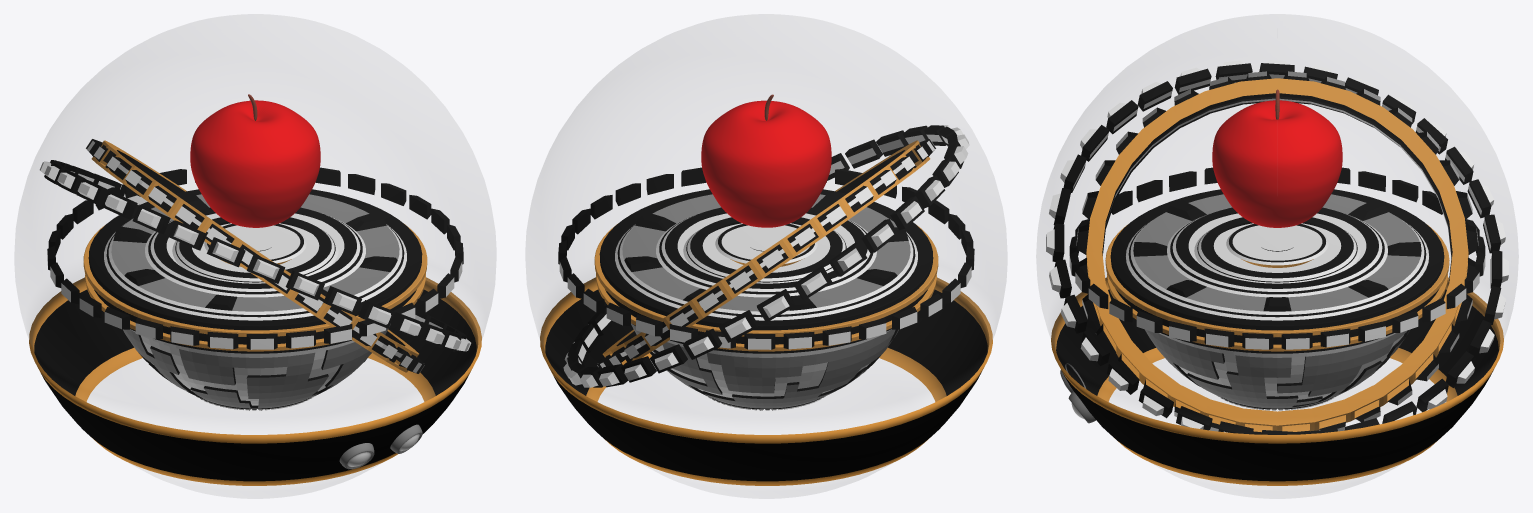
The model's file is GraviSphere_2.fbx.
3 renders of one model, left to right at view 1: azimuth 30°, elevation 25°; view 2: azimuth 150°, elevation 25°; view 3: azimuth 270°, elevation 25°, orthographic.
Visible parts, largest first — view 1: Sphere, Plateforme, Pomme, Cylinder.001, Cylinder.002, Cylinder, Sphere.001, Sphere.002; view 2: Sphere, Plateforme, Pomme, Cylinder.002, Cylinder.001, Cylinder; view 3: Sphere, Plateforme, Cylinder, Cylinder.002, Pomme, Cylinder.001.
Boxes of the visible parts, bbox=[...] form: Sphere: bbox=[15, 14, 495, 498]; Plateforme: bbox=[83, 189, 427, 410]; Pomme: bbox=[190, 94, 320, 227]; Cylinder.001: bbox=[47, 167, 463, 349]; Cylinder.002: bbox=[39, 160, 471, 352]; Cylinder: bbox=[86, 139, 424, 373]; Sphere.001: bbox=[339, 443, 374, 469]; Sphere.002: bbox=[390, 424, 422, 453]; Sphere: bbox=[526, 14, 1006, 498]; Plateforme: bbox=[594, 189, 938, 410]; Pomme: bbox=[701, 94, 831, 227]; Cylinder.002: bbox=[563, 125, 969, 387]; Cylinder.001: bbox=[558, 167, 974, 349]; Cylinder: bbox=[597, 139, 935, 368]; Sphere: bbox=[1036, 14, 1518, 498]; Plateforme: bbox=[1105, 189, 1449, 410]; Cylinder: bbox=[1076, 71, 1478, 434]; Cylinder.002: bbox=[1046, 60, 1508, 434]; Pomme: bbox=[1212, 89, 1342, 227]; Cylinder.001: bbox=[1069, 167, 1485, 349].
Size of the model in its own units: 950 by 960 by 950.
